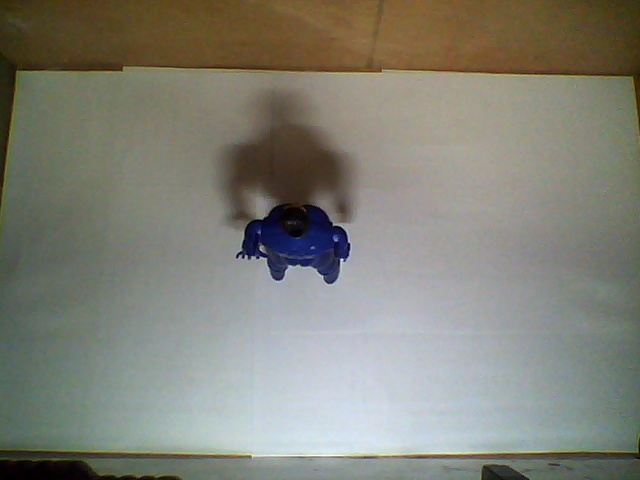human_figure: (236, 204, 352, 284)
